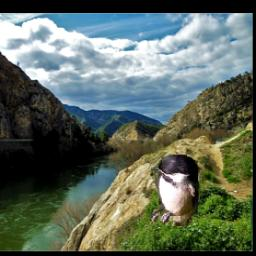Swallow: (148, 152, 201, 227)
